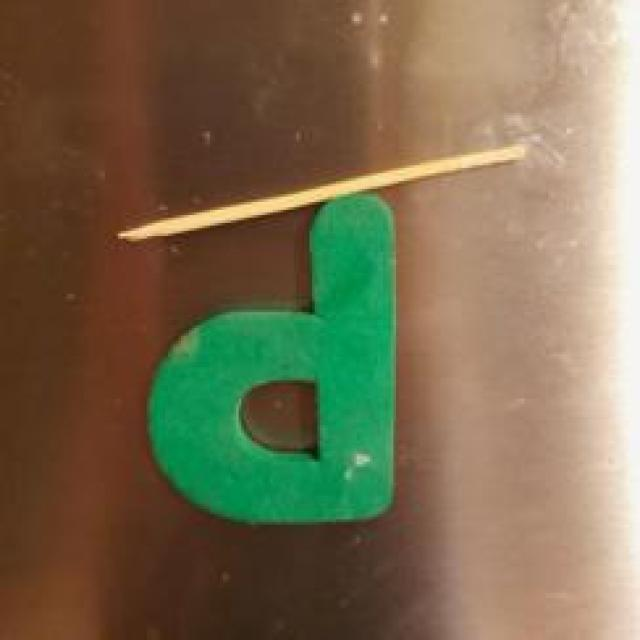pencil: (88, 122, 546, 264)
